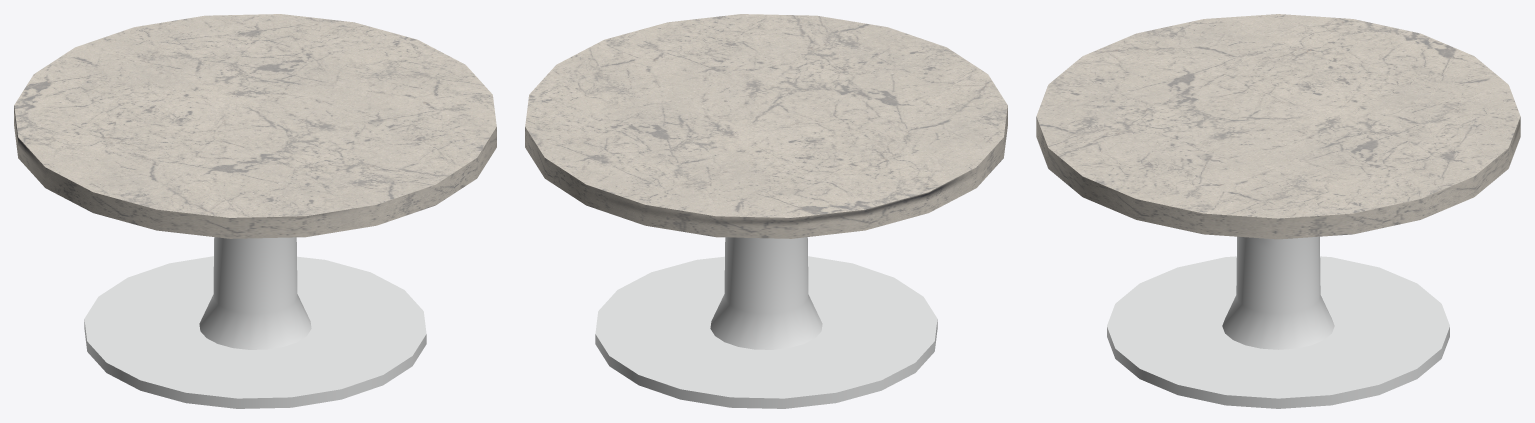
The model's file is Table.fbx.
The picture shows the model from 3 angles, left to right: view 1: azimuth 30°, elevation 25°; view 2: azimuth 150°, elevation 25°; view 3: azimuth 270°, elevation 25°; orthographic projection.
Visible parts, largest first — view 1: pasted__pCylinder4; view 2: pasted__pCylinder4; view 3: pasted__pCylinder4.
Part boxes in pixels (<box>): pasted__pCylinder4: <box>14,14,496,408</box>; pasted__pCylinder4: <box>525,14,1007,408</box>; pasted__pCylinder4: <box>1036,14,1520,408</box>.
Size of the model in its own units: 3.09 by 1.55 by 3.09.
